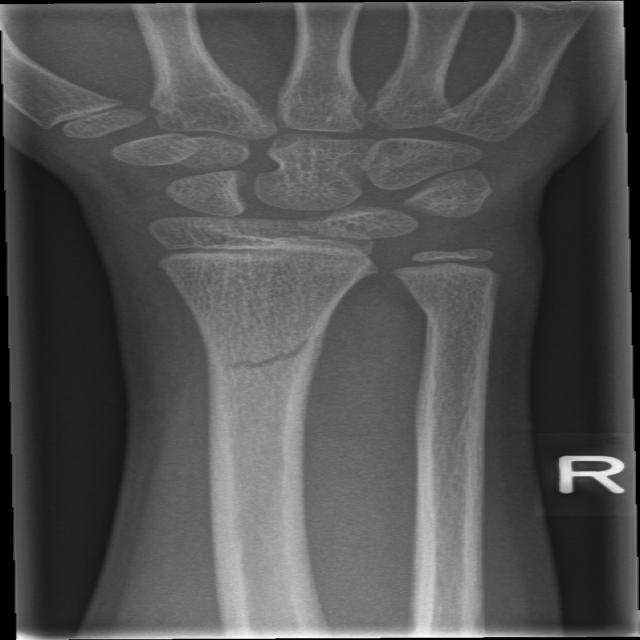radius fracture: (170, 290, 370, 449)
